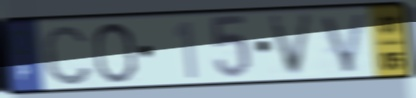1: (173, 19, 199, 81)
5: (206, 13, 254, 83)
C: (40, 21, 95, 87)
O: (91, 20, 139, 86)
V: (266, 11, 318, 79), (318, 10, 370, 75)
